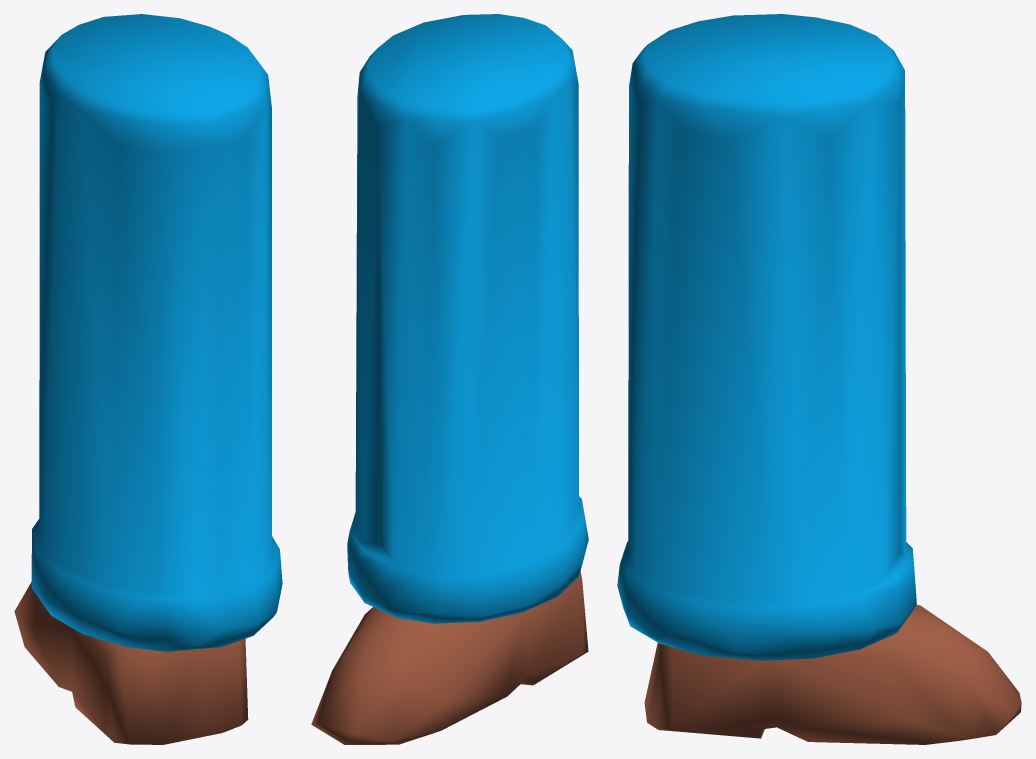
Rendered from piernaIzq.obj.
3 views of the same model, side by side, from view 1: azimuth 30°, elevation 25°; view 2: azimuth 150°, elevation 25°; view 3: azimuth 270°, elevation 25° (orthographic). The views are drawn at different scales.
Parts seen in each view (by area): view 1: Pierna_Izq_Homer_Sphere.005; view 2: Pierna_Izq_Homer_Sphere.005; view 3: Pierna_Izq_Homer_Sphere.005.
Part boxes in pixels (<box>): Pierna_Izq_Homer_Sphere.005: <box>14,14,282,744</box>; Pierna_Izq_Homer_Sphere.005: <box>311,14,588,744</box>; Pierna_Izq_Homer_Sphere.005: <box>617,14,1021,744</box>.
Size of the model in its own units: 0.5881 by 1.73 by 0.9549.
2 materials, 2 textured.
